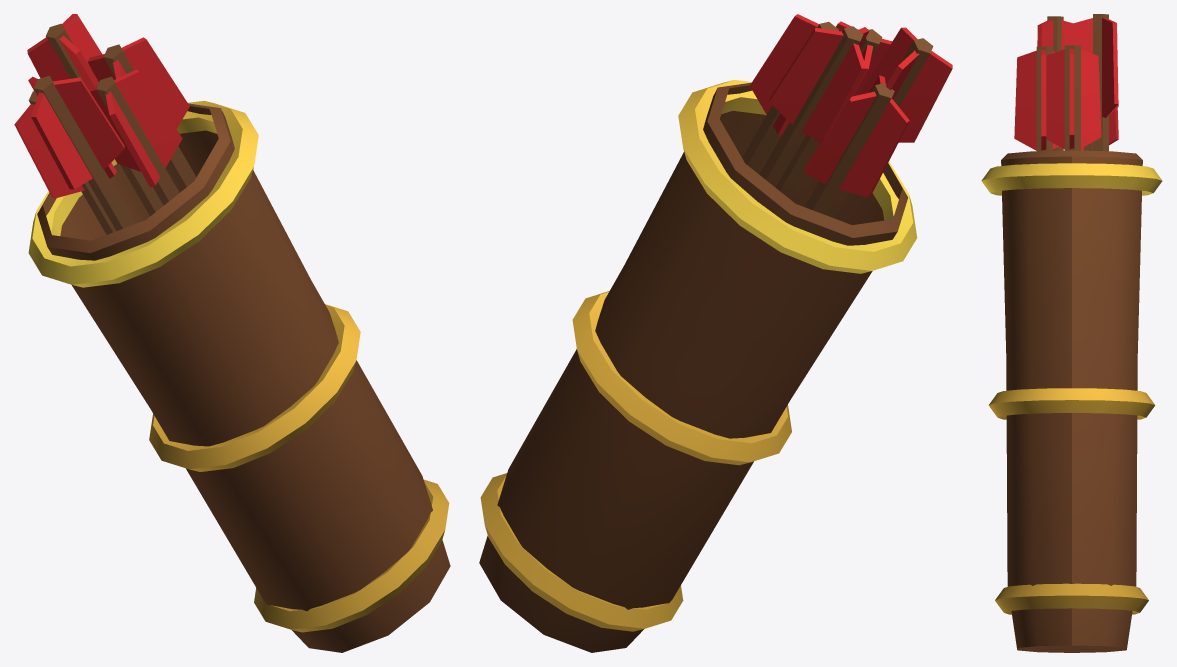
Rendered from Prop_EnemyQuiver.fbx.
3 renders of one model, left to right at view 1: azimuth 30°, elevation 25°; view 2: azimuth 150°, elevation 25°; view 3: azimuth 270°, elevation 25°, orthographic. The views are drawn at different scales.
Parts seen in each view (by area): view 1: EnemyQuiver; view 2: EnemyQuiver; view 3: EnemyQuiver.
Boxes of the visible parts, x1,y1,x2,y2 form: EnemyQuiver: (14, 14, 450, 652); EnemyQuiver: (479, 14, 952, 652); EnemyQuiver: (981, 14, 1162, 652).
Bounding box in the file's own units: 0.2504 × 0.371 × 0.1113.
